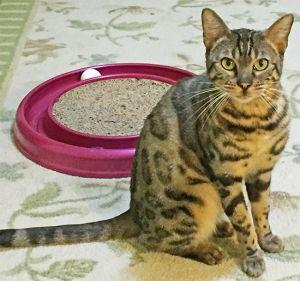bengal: (197, 3, 294, 111)
